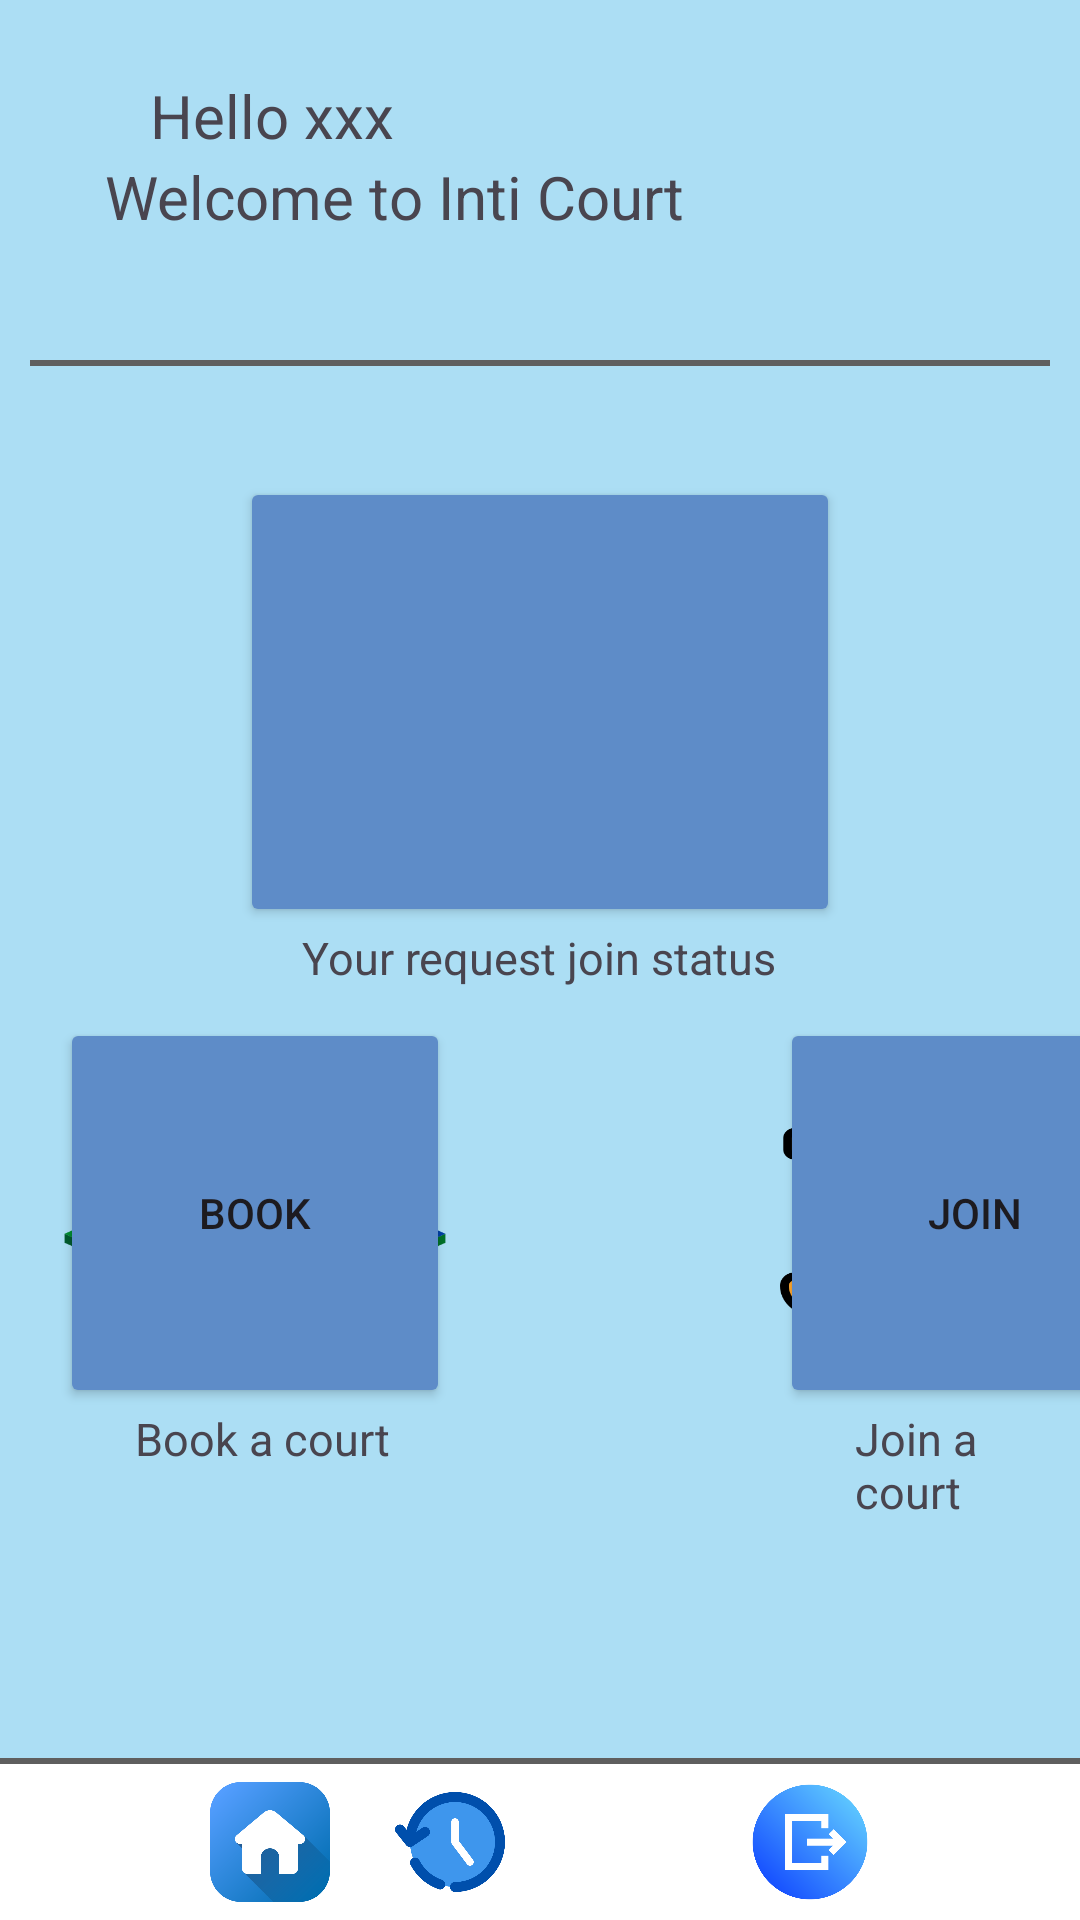

Point at icon controls on the screen. Image size 1080 x 1920, points as [x,y].
clock: [450,1842]
home: [270,1842]
log: [810,1842]
